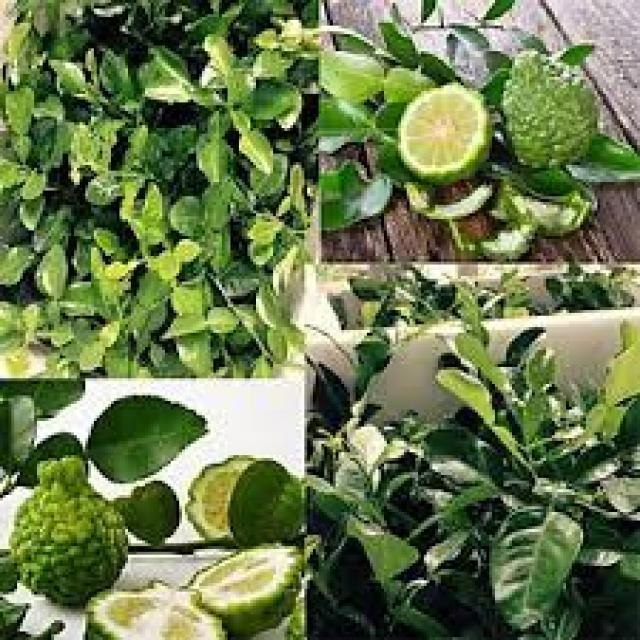Chuc: (6, 452, 128, 606), (498, 45, 597, 168), (185, 540, 301, 634), (395, 80, 492, 182), (82, 580, 228, 637), (225, 455, 304, 546), (182, 452, 256, 540), (111, 478, 179, 546)
